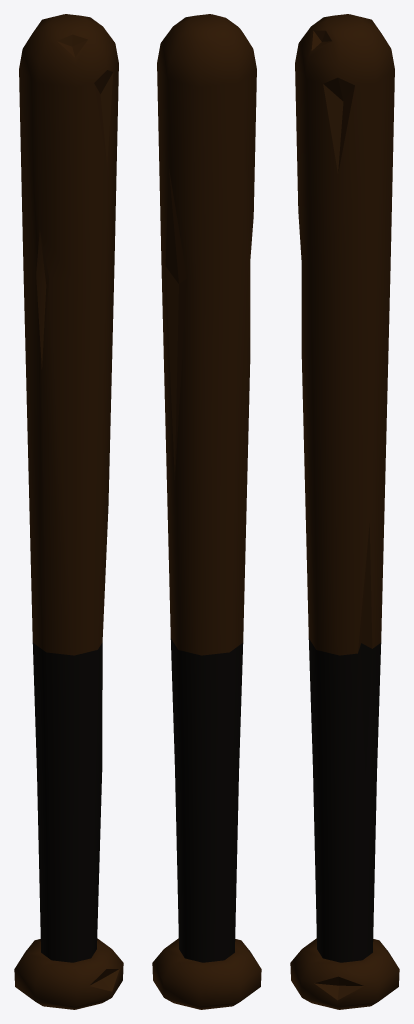
The model's file is baseballbat.fbx.
3 views of the same model, side by side, from view 1: azimuth 30°, elevation 25°; view 2: azimuth 150°, elevation 25°; view 3: azimuth 330°, elevation 25° (orthographic).
Parts seen in each view (by area): view 1: pCube1; view 2: pCube1; view 3: pCube1.
Part boxes in pixels (box(x1,y1,x2,y2)): pCube1: box(14, 14, 123, 1009); pCube1: box(152, 14, 261, 1009); pCube1: box(290, 14, 399, 1009).
Size of the model in its own units: 4.1 by 43.16 by 4.1.
